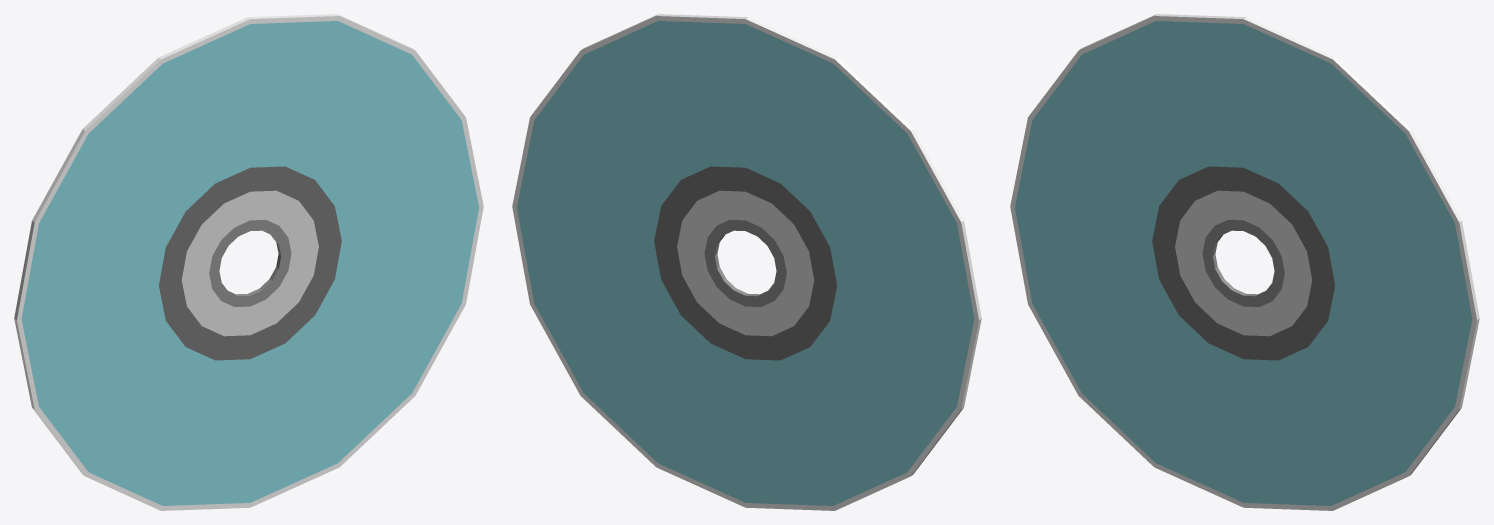
3 renders of one model, left to right at view 1: azimuth 30°, elevation 25°; view 2: azimuth 150°, elevation 25°; view 3: azimuth 330°, elevation 25°, orthographic.
Parts seen in each view (by area): view 1: Cd; view 2: Cd; view 3: Cd.
Part boxes in pixels (box(x1,y1,x2,y2)): Cd: box(14, 14, 483, 510); Cd: box(512, 14, 981, 510); Cd: box(1010, 14, 1479, 510).
Bounding box in the file's own units: 2 × 2 × 0.02.
